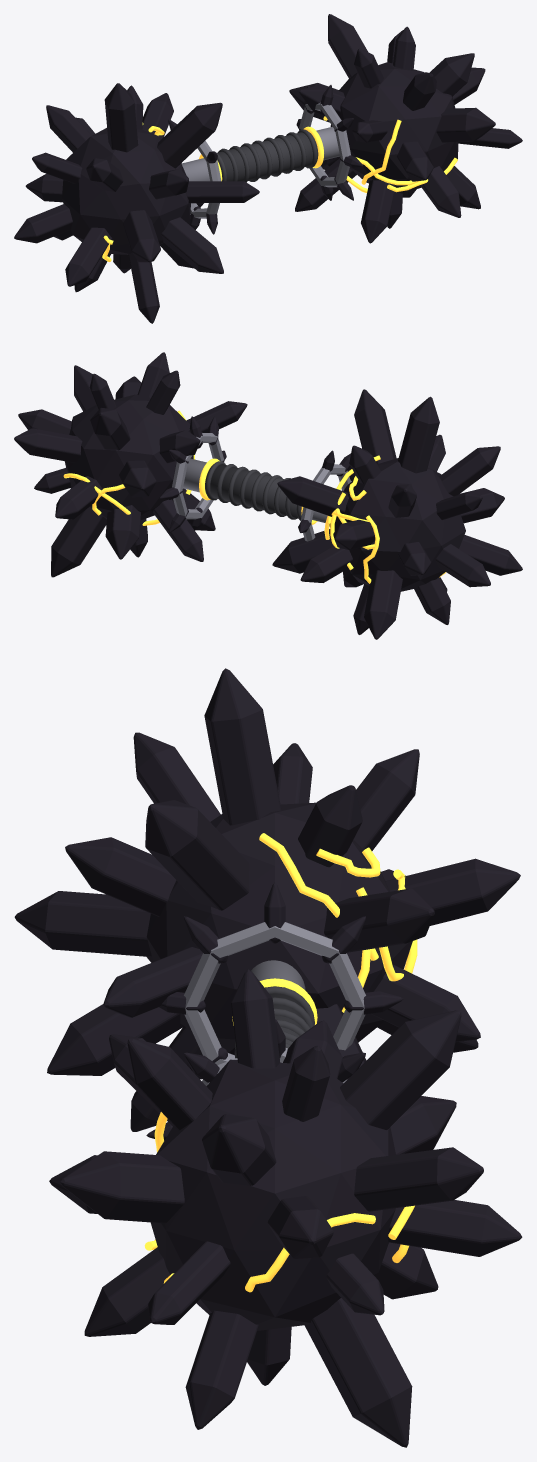
The model's file is dm_obsidian2t.glb.
3 views of the same model, one above another, from view 1: azimuth 30°, elevation 25°; view 2: azimuth 150°, elevation 25°; view 3: azimuth 270°, elevation 25° (orthographic). The views are drawn at different scales.
Parts seen in each view (by area): view 1: Obsidian2t_Core, Obsidian2t_Core.001, Obsidian2t_Shard.017, Obsidian2t_Grip, Obsidian2t_Shard.015, Obsidian2t_Shard.009, Obsidian2t_Shard.028, Obsidian2t_Shard.002, Obsidian2t_Shard.020, Obsidian2t_Shard.039, Obsidian2t_Shard, Obsidian2t_Collar.001 (+25 smaller); view 2: Obsidian2t_Core, Obsidian2t_Core.001, Obsidian2t_Shard.029, Obsidian2t_Shard.009, Obsidian2t_Grip, Obsidian2t_Shard.017, Obsidian2t_Shard.008, Obsidian2t_Shard.019, Obsidian2t_Shard.027, Obsidian2t_Shard.004, Obsidian2t_Shard, Obsidian2t_Shard.037 (+31 smaller); view 3: Obsidian2t_Core.001, Obsidian2t_Core, Obsidian2t_Shard.029, Obsidian2t_Shard.009, Obsidian2t_Shard.035, Obsidian2t_Shard.017, Obsidian2t_Shard.028, Obsidian2t_Shard.007, Obsidian2t_Collar, Obsidian2t_Shard.027, Obsidian2t_Shard.026, Obsidian2t_Shard.032 (+26 smaller).
Part boxes in pixels (x1=…): Obsidian2t_Core: x1=62, y1=128, x2=190, y2=254; Obsidian2t_Core.001: x1=330, y1=62, x2=458, y2=193; Obsidian2t_Shard.017: x1=157, y1=102, x2=222, y2=168; Obsidian2t_Grip: x1=217, y1=132, x2=318, y2=181; Obsidian2t_Shard.015: x1=161, y1=217, x2=223, y2=273; Obsidian2t_Shard.009: x1=104, y1=83, x2=138, y2=152; Obsidian2t_Shard.028: x1=436, y1=107, x2=495, y2=142; Obsidian2t_Shard.002: x1=65, y1=227, x2=112, y2=286; Obsidian2t_Shard.020: x1=186, y1=181, x2=259, y2=203; Obsidian2t_Shard.039: x1=361, y1=180, x2=395, y2=243; Obsidian2t_Shard: x1=14, y1=204, x2=72, y2=243; Obsidian2t_Collar.001: x1=299, y1=102, x2=350, y2=187; Obsidian2t_Core: x1=329, y1=458, x2=465, y2=591; Obsidian2t_Core.001: x1=65, y1=394, x2=193, y2=519; Obsidian2t_Shard.029: x1=51, y1=507, x2=106, y2=577; Obsidian2t_Shard.009: x1=398, y1=396, x2=439, y2=473; Obsidian2t_Grip: x1=205, y1=464, x2=301, y2=518; Obsidian2t_Shard.017: x1=354, y1=389, x2=396, y2=463; Obsidian2t_Shard.008: x1=364, y1=570, x2=402, y2=639; Obsidian2t_Shard.019: x1=277, y1=476, x2=348, y2=519; Obsidian2t_Shard.027: x1=14, y1=428, x2=82, y2=462; Obsidian2t_Shard.004: x1=439, y1=446, x2=500, y2=496; Obsidian2t_Shard: x1=435, y1=544, x2=490, y2=587; Obsidian2t_Shard.037: x1=105, y1=505, x2=140, y2=559; Obsidian2t_Core.001: x1=150, y1=1059, x2=395, y2=1330; Obsidian2t_Core: x1=146, y1=802, x2=412, y2=1052; Obsidian2t_Shard.029: x1=304, y1=1298, x2=412, y2=1447; Obsidian2t_Shard.009: x1=204, y1=668, x2=281, y2=825; Obsidian2t_Shard.035: x1=340, y1=1010, x2=461, y2=1129; Obsidian2t_Shard.017: x1=145, y1=800, x2=249, y2=910; Obsidian2t_Shard.028: x1=60, y1=1151, x2=184, y2=1223; Obsidian2t_Shard.007: x1=14, y1=891, x2=151, y2=956; Obsidian2t_Collar: x1=184, y1=922, x2=365, y2=1064; Obsidian2t_Shard.027: x1=354, y1=1147, x2=483, y2=1211; Obsidian2t_Shard.026: x1=185, y1=1310, x2=258, y2=1429; Obsidian2t_Shard.032: x1=388, y1=1200, x2=522, y2=1256.
Size of the model in its own units: 5.82 by 2.69 by 2.72.
